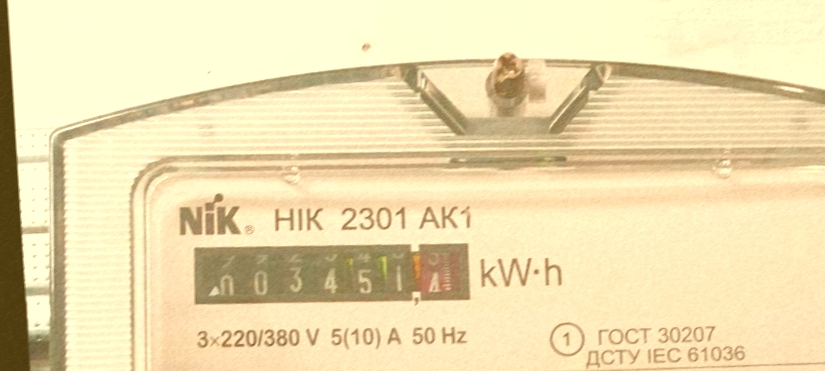0: (214, 270, 236, 298), (249, 268, 270, 297)
1: (389, 262, 407, 294)
3: (284, 263, 305, 295)
4: (318, 265, 340, 298), (421, 268, 443, 298)
5: (354, 265, 373, 297)
screen: (183, 225, 477, 325)
